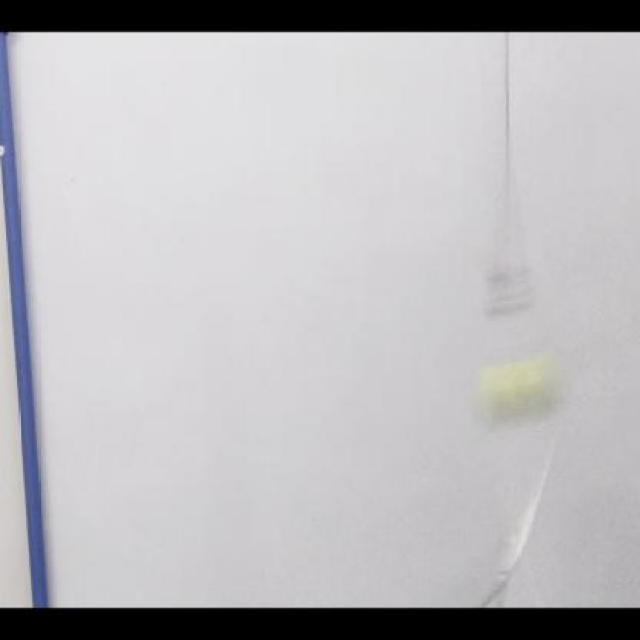baseball: (483, 347, 565, 430)
